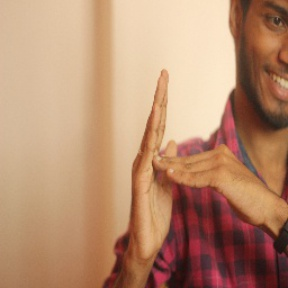Z: (120, 63, 274, 246)
